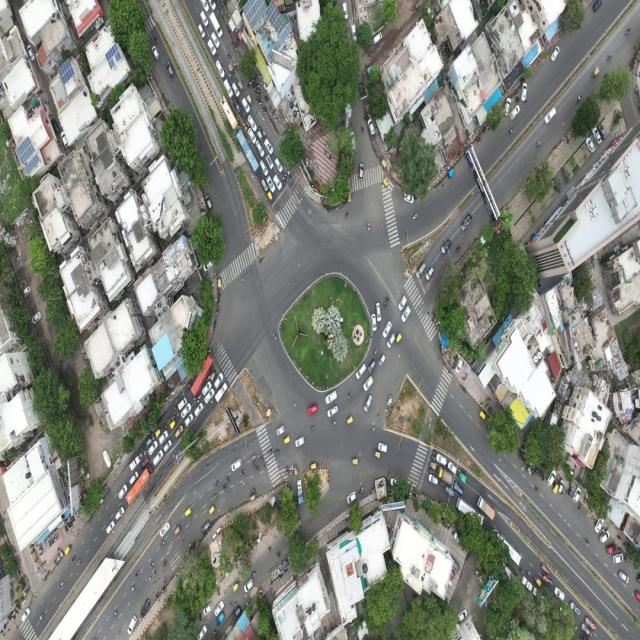3W: (588, 62, 602, 82), (474, 406, 488, 424), (183, 500, 193, 520), (282, 430, 292, 448), (63, 541, 74, 557), (307, 457, 319, 471), (344, 413, 356, 427), (550, 482, 560, 498), (534, 573, 544, 589), (394, 331, 404, 346), (208, 500, 216, 518), (447, 166, 456, 182), (566, 484, 575, 500), (154, 426, 164, 440), (173, 522, 182, 537), (349, 456, 360, 468), (427, 460, 438, 472), (168, 418, 178, 431), (380, 177, 390, 190), (381, 157, 391, 170), (232, 577, 240, 593), (266, 188, 274, 204), (246, 91, 254, 107), (238, 79, 246, 94), (373, 450, 382, 463), (293, 463, 300, 479), (256, 128, 264, 142), (228, 61, 235, 75), (209, 370, 216, 383), (216, 278, 223, 291), (248, 494, 257, 504)
Bus: (124, 459, 156, 510), (188, 349, 217, 399), (492, 526, 524, 569), (236, 130, 260, 176), (454, 494, 485, 528), (220, 95, 240, 135)
Cars: (578, 616, 594, 640), (126, 608, 138, 638), (421, 264, 435, 288), (594, 510, 607, 534), (458, 213, 474, 232), (543, 106, 559, 125), (222, 76, 235, 99), (201, 594, 213, 618), (584, 134, 597, 156), (553, 580, 566, 602), (438, 237, 453, 256), (568, 598, 582, 618), (583, 612, 597, 632), (159, 520, 173, 539), (452, 480, 466, 499), (366, 114, 377, 138), (141, 595, 151, 621), (362, 374, 375, 393), (150, 42, 161, 64), (255, 137, 266, 159), (53, 548, 65, 568), (324, 388, 339, 404), (366, 356, 378, 376), (381, 320, 393, 340), (396, 294, 408, 314), (550, 43, 562, 63), (592, 126, 604, 146), (112, 505, 126, 522), (195, 623, 209, 640), (362, 393, 373, 414), (415, 259, 426, 280), (118, 481, 130, 500), (539, 557, 551, 576), (508, 105, 523, 120), (591, 0, 606, 15), (199, 519, 212, 536), (213, 600, 226, 617), (21, 604, 32, 624), (355, 360, 366, 380), (385, 332, 396, 352), (215, 58, 225, 80), (104, 518, 116, 536), (274, 154, 284, 175), (617, 571, 632, 585), (211, 30, 222, 49), (146, 439, 159, 455), (231, 456, 244, 472), (402, 189, 415, 205), (598, 529, 611, 545), (374, 301, 383, 324), (207, 37, 217, 57), (266, 175, 276, 195), (598, 121, 608, 141), (264, 138, 275, 156), (272, 173, 283, 191), (447, 458, 458, 476), (604, 542, 618, 556), (293, 434, 306, 449), (345, 490, 358, 505), (611, 553, 624, 568), (444, 483, 456, 499), (542, 574, 554, 590), (205, 387, 215, 406), (401, 305, 411, 324), (248, 115, 258, 134), (454, 356, 464, 375), (520, 79, 528, 102), (325, 406, 339, 419), (128, 471, 140, 486), (140, 454, 150, 472), (158, 430, 170, 445), (214, 371, 224, 389), (377, 352, 387, 370), (204, 191, 213, 211), (167, 60, 176, 80), (196, 22, 206, 40), (260, 156, 269, 176), (372, 30, 382, 48), (503, 96, 512, 116), (436, 452, 448, 467), (153, 450, 164, 466), (370, 312, 378, 334), (248, 123, 256, 145), (557, 473, 565, 495), (174, 423, 184, 440), (202, 380, 212, 397), (306, 402, 318, 416), (357, 77, 365, 98), (181, 404, 192, 419), (200, 10, 209, 28), (232, 97, 241, 115), (242, 97, 251, 115), (215, 612, 225, 628), (194, 402, 204, 418), (572, 488, 582, 504), (358, 159, 364, 185), (427, 474, 440, 486), (275, 424, 286, 438), (199, 0, 210, 14), (351, 23, 358, 45), (546, 472, 557, 486), (342, 2, 350, 21), (377, 442, 389, 454), (232, 81, 241, 97), (266, 153, 274, 171), (261, 176, 269, 194), (244, 578, 254, 592), (184, 414, 194, 428), (232, 606, 241, 621), (350, 128, 356, 150), (146, 432, 154, 447), (164, 441, 173, 453), (208, 0, 217, 12)
LCV: (208, 8, 225, 42), (213, 380, 230, 405), (295, 476, 305, 509), (520, 575, 534, 594), (128, 454, 142, 472), (457, 466, 468, 486), (177, 393, 189, 411)
M2W: (185, 538, 192, 552), (624, 26, 632, 38), (267, 545, 275, 557), (222, 482, 230, 494), (358, 484, 365, 497), (344, 390, 353, 400), (132, 568, 141, 578), (111, 607, 119, 618), (309, 423, 317, 433), (232, 58, 238, 70), (162, 556, 168, 568), (58, 580, 65, 590), (366, 219, 371, 233), (39, 610, 45, 621), (242, 108, 248, 119), (576, 93, 582, 104), (519, 564, 525, 575), (276, 549, 282, 560), (266, 448, 274, 456), (508, 127, 515, 136), (30, 546, 36, 556), (33, 555, 39, 565), (71, 554, 77, 564), (257, 124, 263, 134), (606, 52, 612, 62), (251, 568, 257, 578), (149, 559, 155, 569), (480, 486, 487, 494), (431, 447, 438, 455), (250, 454, 258, 461), (224, 475, 232, 482), (211, 492, 218, 500), (76, 558, 82, 567), (206, 373, 212, 382), (412, 212, 418, 221), (455, 244, 461, 253), (584, 536, 590, 545), (526, 568, 532, 577), (462, 467, 468, 476), (330, 419, 336, 428), (274, 448, 280, 457), (153, 34, 158, 44), (616, 534, 623, 541), (240, 469, 247, 476), (214, 479, 221, 486), (160, 540, 167, 547), (263, 462, 269, 470), (228, 601, 234, 609), (130, 586, 136, 594), (153, 568, 159, 576), (536, 140, 541, 149), (373, 348, 378, 357), (487, 403, 491, 414), (288, 466, 292, 477), (38, 550, 44, 557), (194, 399, 200, 406), (196, 393, 202, 400), (515, 98, 521, 105), (385, 296, 391, 303), (533, 486, 539, 493), (579, 633, 586, 639), (428, 467, 434, 474), (259, 456, 265, 463), (255, 466, 261, 473), (48, 538, 52, 548), (56, 532, 60, 542), (66, 520, 70, 530), (210, 366, 215, 374), (226, 25, 230, 35), (228, 70, 232, 80), (245, 80, 250, 88), (244, 122, 248, 132), (434, 317, 438, 327), (251, 486, 256, 494), (164, 576, 168, 586), (138, 452, 144, 458), (143, 450, 149, 456), (168, 415, 172, 424), (170, 416, 176, 422), (250, 81, 256, 87), (257, 81, 263, 87), (246, 119, 250, 128), (287, 169, 291, 178), (478, 134, 482, 143), (489, 406, 493, 415), (529, 460, 533, 469), (617, 547, 623, 553), (291, 463, 294, 475), (251, 462, 257, 468), (141, 444, 146, 451), (163, 424, 168, 431), (226, 52, 231, 59), (622, 541, 627, 548), (438, 479, 443, 486), (233, 601, 238, 608), (625, 552, 628, 563), (50, 536, 54, 544), (52, 536, 56, 544), (69, 520, 73, 528), (250, 84, 258, 88), (263, 130, 267, 138), (516, 90, 520, 98), (536, 466, 540, 474), (173, 406, 178, 412), (175, 397, 181, 402), (192, 396, 198, 401), (263, 95, 269, 100), (344, 213, 350, 218), (362, 125, 365, 135), (383, 302, 388, 308), (64, 525, 68, 532), (281, 181, 285, 188), (476, 138, 480, 145), (284, 172, 287, 181), (249, 78, 254, 83), (259, 99, 264, 104), (71, 516, 75, 522), (176, 412, 180, 418), (184, 389, 190, 393), (187, 383, 193, 387), (232, 48, 238, 52), (232, 41, 236, 47), (261, 105, 265, 111), (265, 104, 267, 116), (272, 110, 276, 116), (519, 451, 522, 459), (521, 451, 524, 459), (539, 470, 542, 478), (540, 473, 544, 479), (578, 502, 581, 510), (430, 456, 436, 460), (286, 463, 288, 475), (282, 175, 285, 182), (522, 455, 525, 462), (255, 96, 259, 100), (252, 89, 259, 91), (268, 105, 270, 112), (287, 176, 289, 183), (255, 92, 261, 94), (542, 476, 544, 481)
Truck: (477, 493, 498, 526), (436, 465, 455, 487)
